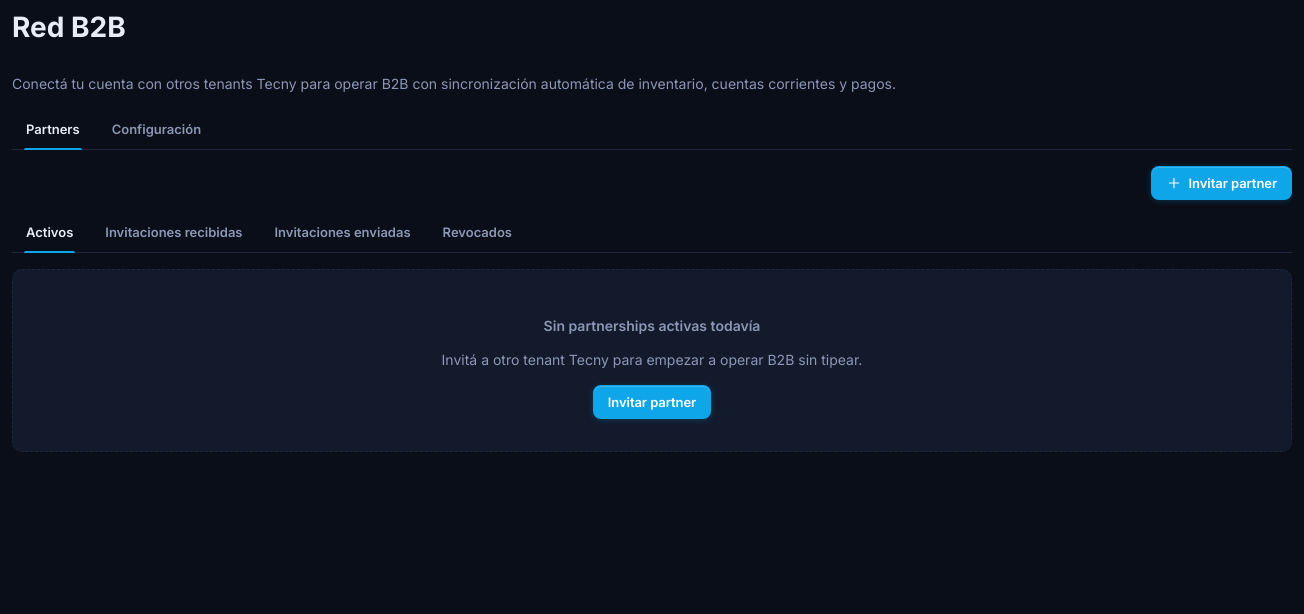
Test case: Pantalla RedB2B — hub con tabs (PR-X1) › click en tab Configuración renderea contenido de Config (Caja default)
This screenshot has width=1304, height=614.
Click the tab "Configuración": (156, 129) [98, 109, 215, 149]
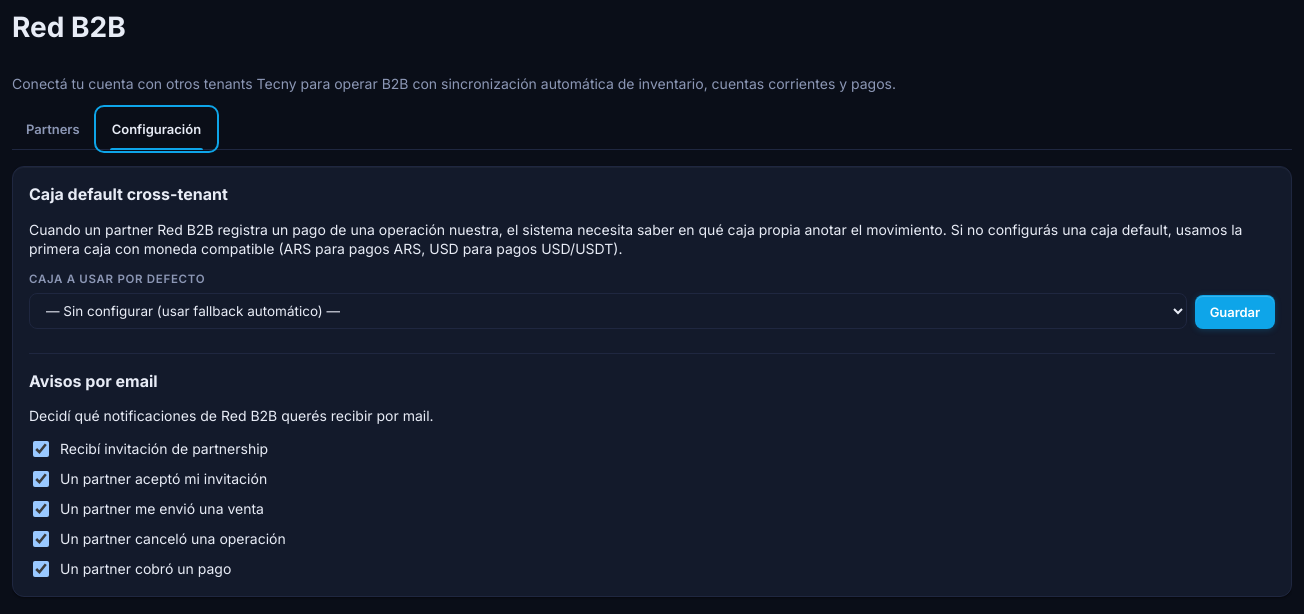
Expected: the heading "Caja default cross-tenant" is shown, [29, 184, 228, 204]
Expected: the dropdown labelled "Caja a usar por defecto" is shown, [29, 293, 1187, 329]
